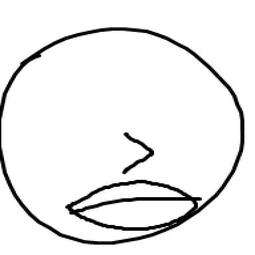open_mouth: (56, 176, 198, 235)
pointy_nose: (108, 125, 161, 177)
